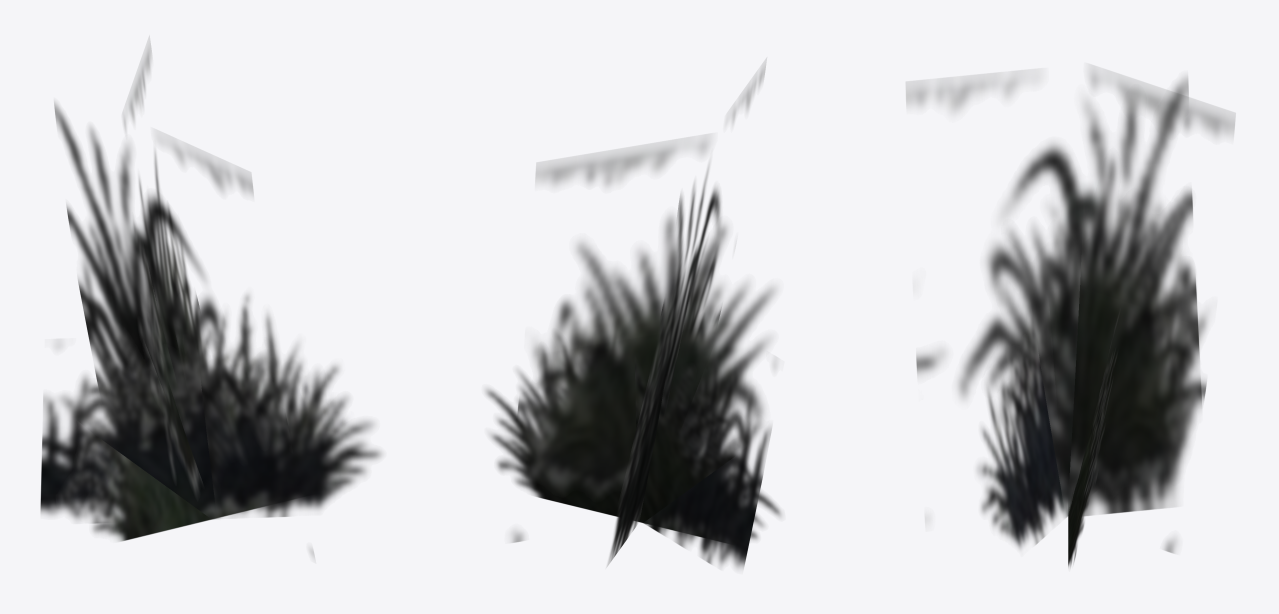
The model's file is bui-co-dai-3.glb.
The picture shows the model from 3 angles, left to right: view 1: azimuth 30°, elevation 25°; view 2: azimuth 150°, elevation 25°; view 3: azimuth 270°, elevation 25°; orthographic projection.
Visible parts, largest first — view 1: p0; view 2: p0; view 3: p0.
Boxes of the visible parts, x1=… form: p0: x1=40, y1=41, x2=382, y2=558; p0: x1=485, y1=63, x2=781, y2=568; p0: x1=906, y1=72, x2=1234, y2=567.
Size of the model in its own units: 0.5294 by 0.6468 by 0.5453.
Materials: 4 (4 with a texture image).
